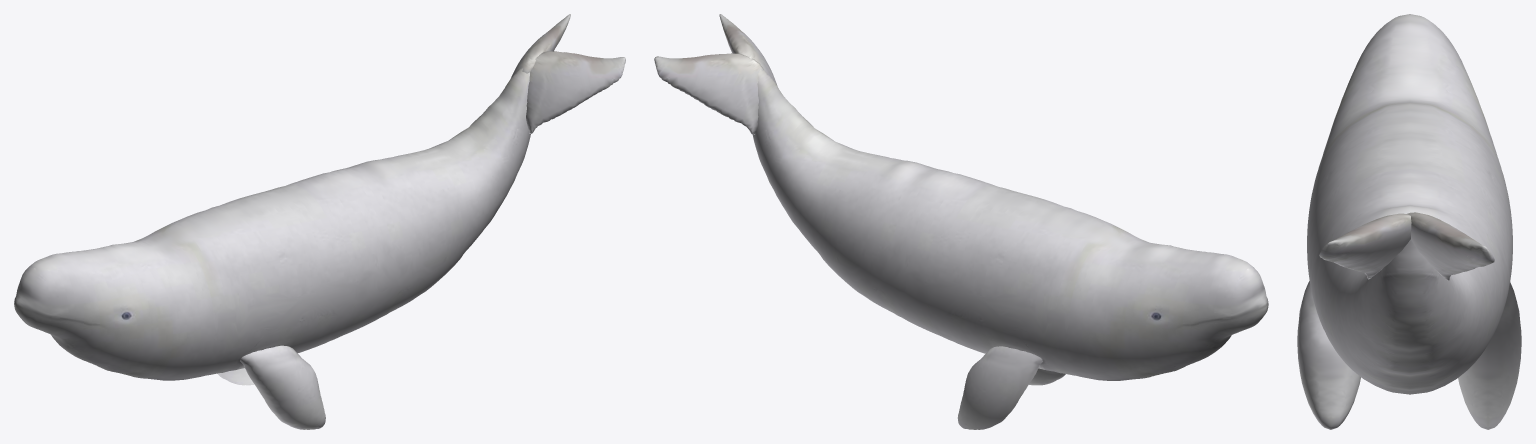
Rendered from beluga.glb.
The picture shows the model from 3 angles, left to right: view 1: azimuth 30°, elevation 25°; view 2: azimuth 150°, elevation 25°; view 3: azimuth 270°, elevation 25°; orthographic projection. The views are drawn at different scales.
Parts seen in each view (by area): view 1: mm_frame (50); view 2: mm_frame (50); view 3: mm_frame (50).
Boxes of the visible parts, x1,y1,x2,y2 form: mm_frame (50): (14,14,625,429); mm_frame (50): (654,14,1268,429); mm_frame (50): (1297,14,1521,429).
Size of the model in its own units: 9.11 by 4.42 by 2.35.
1 material, 1 textured.
